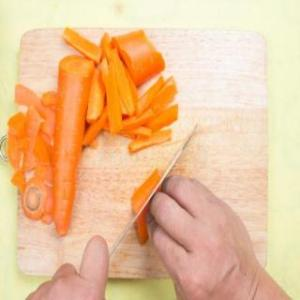carrot: (48, 55, 92, 238)
